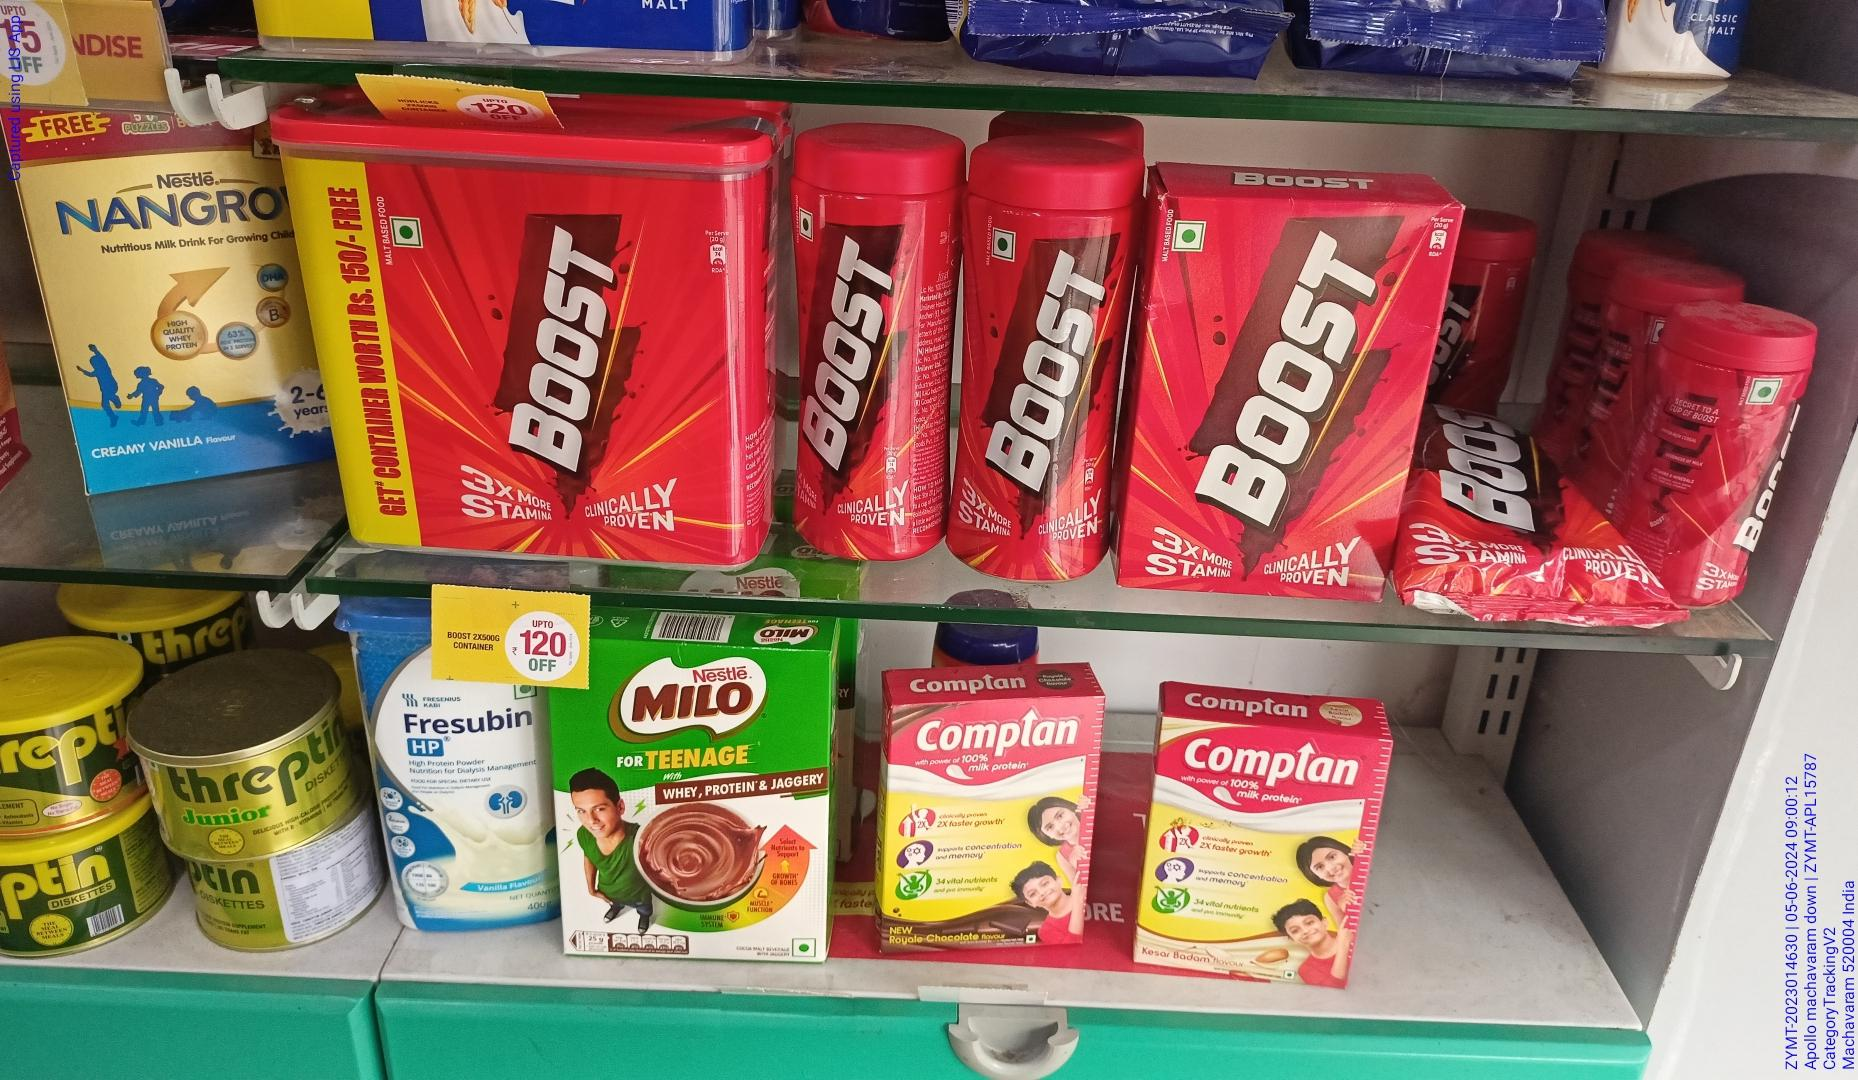COMPLAN_CHOCOLATE_200_GMS_PACK: (886, 697, 1084, 948)
COMPLAN_KESAR_BADAM_500_GMS_PACK: (1139, 716, 1355, 985)
